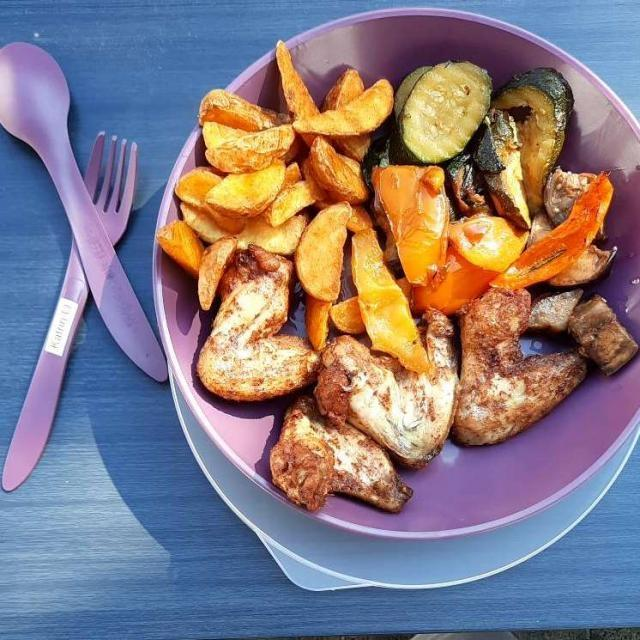bell-pepper: (383, 179, 622, 318)
chicken: (198, 260, 588, 512)
eggplant: (545, 251, 633, 374)
fries: (172, 64, 429, 348)
zucchini: (377, 68, 574, 225)
